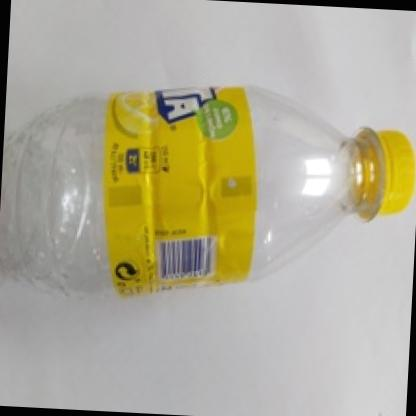plastic_bottles: (0, 69, 416, 307)
